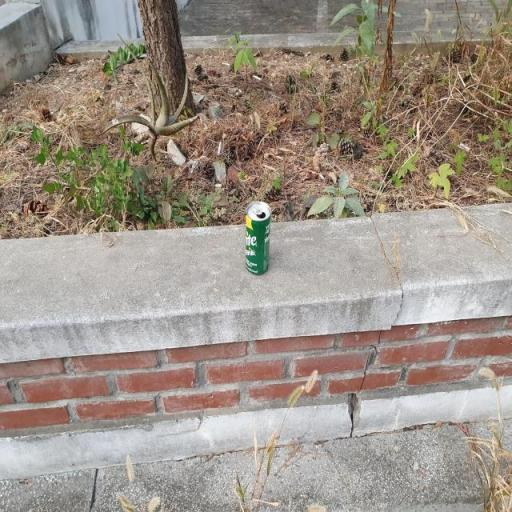metal: (212, 194, 296, 285)
